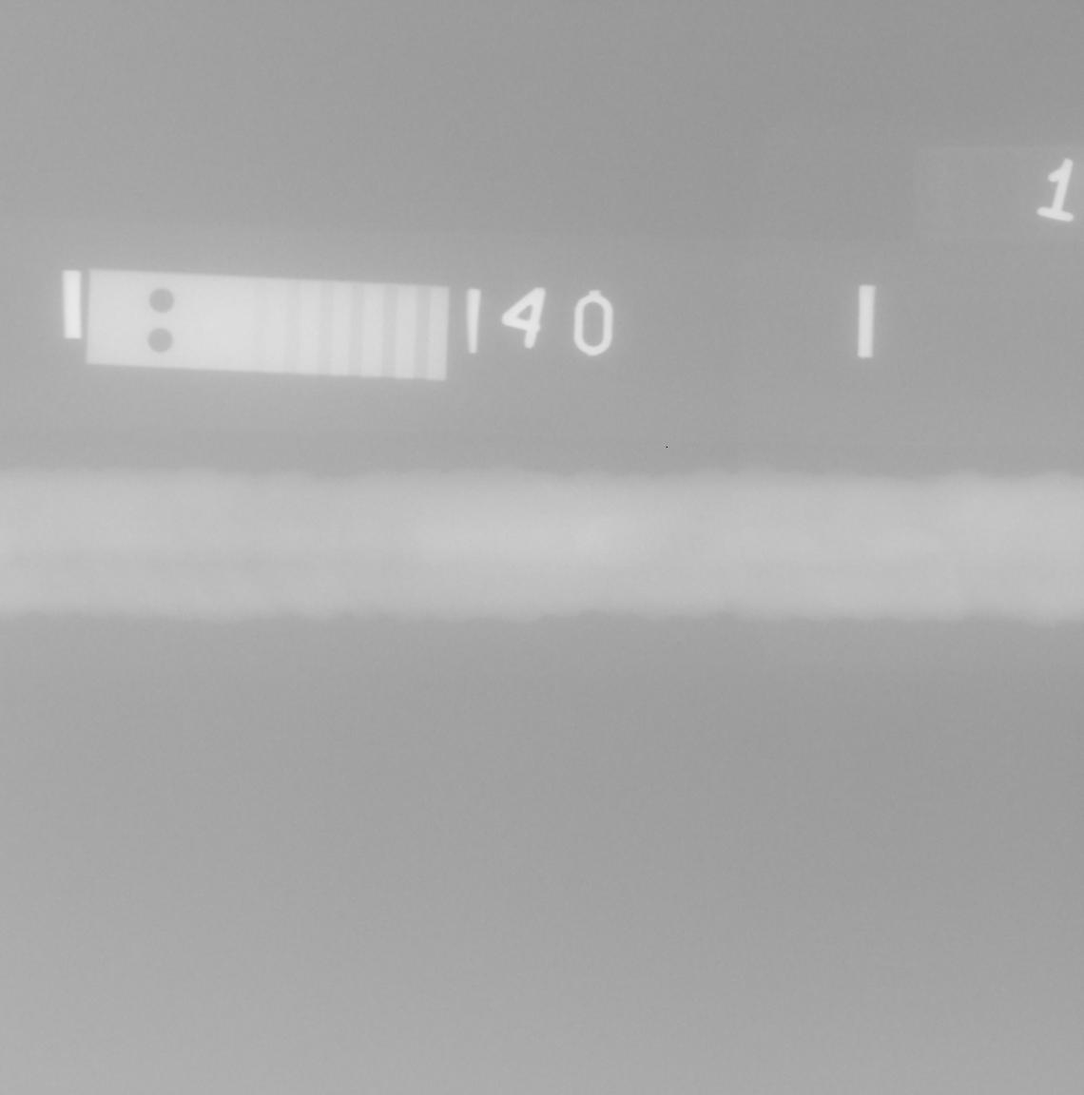Inclusion: (182, 552, 199, 557)
Reference Standard 2: (86, 269, 448, 381)
